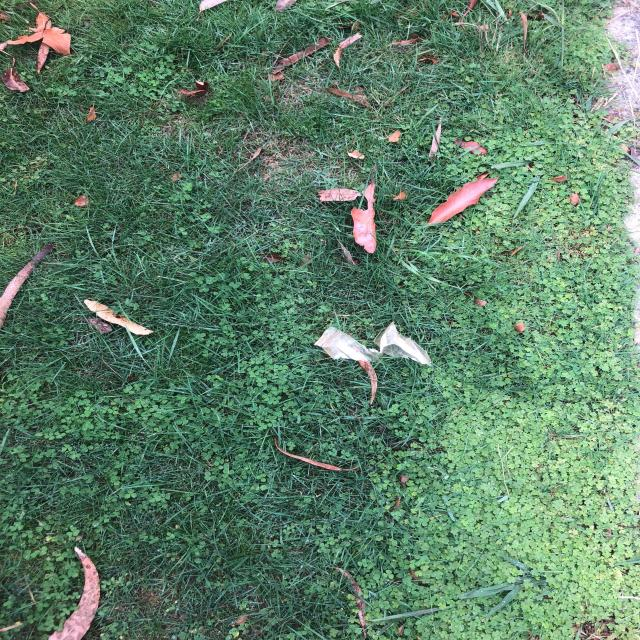Plastic film: (314, 321, 433, 367)
